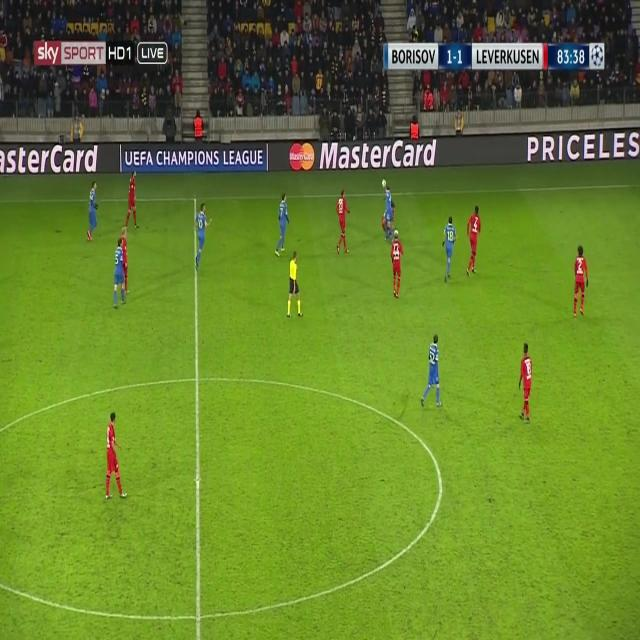Ball: (379, 177, 388, 191)
Player: (102, 409, 129, 507), (190, 196, 213, 280), (418, 334, 443, 410), (570, 242, 590, 322), (464, 204, 484, 281), (518, 340, 535, 426), (333, 189, 352, 260), (439, 212, 458, 283), (83, 177, 101, 244), (110, 237, 126, 312), (273, 193, 291, 258), (124, 168, 141, 232), (120, 225, 134, 302), (391, 228, 404, 300), (380, 186, 395, 244)
Referee: (285, 246, 306, 321)
